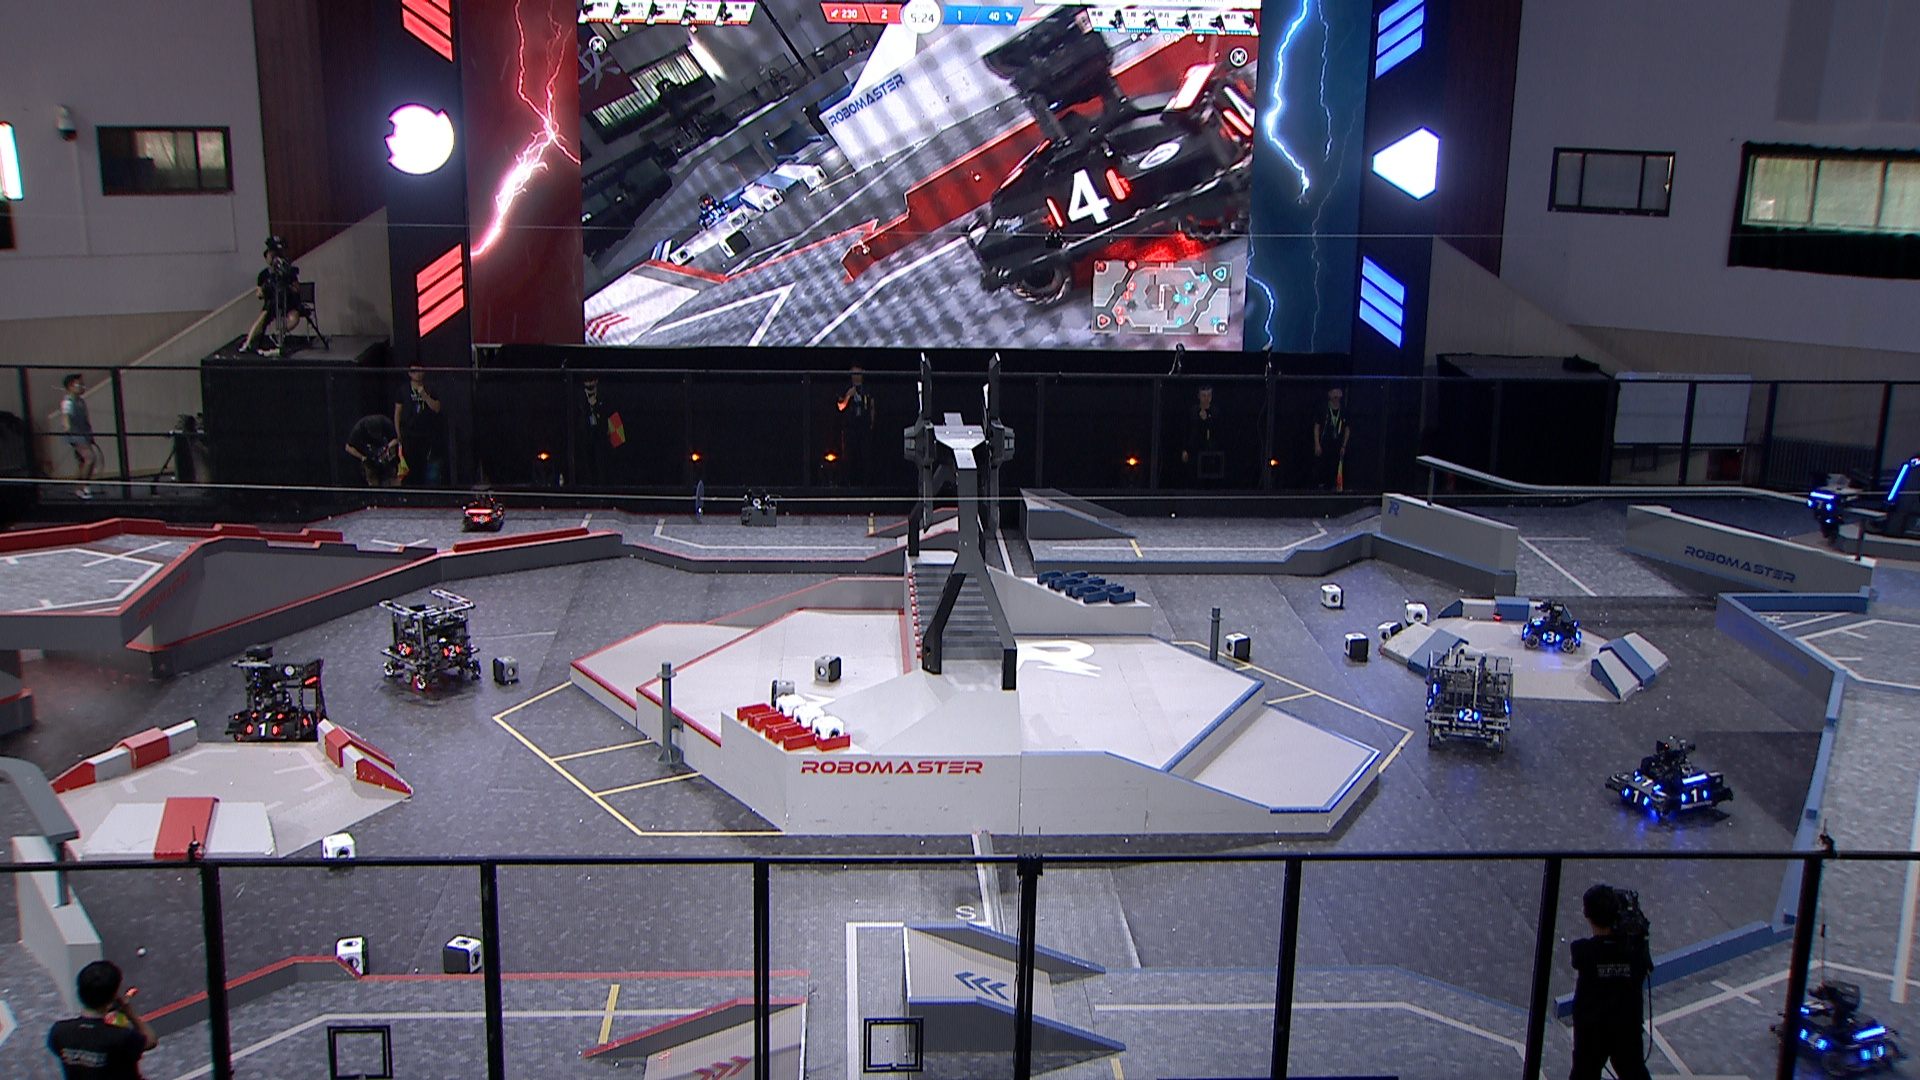armor: (1888, 462, 1911, 501), (1799, 1027, 1828, 1054), (1859, 1040, 1887, 1064), (1634, 773, 1662, 794), (244, 723, 280, 738), (1625, 789, 1652, 808), (1797, 1001, 1826, 1019), (1680, 789, 1713, 804), (249, 711, 286, 723), (1807, 498, 1836, 513), (1457, 707, 1481, 723), (1539, 632, 1564, 646), (442, 642, 463, 659), (396, 644, 414, 659), (301, 712, 318, 727), (472, 514, 491, 526), (1528, 616, 1547, 626)
base: (1866, 458, 1920, 545)
car: (1774, 978, 1907, 1079), (1604, 737, 1737, 823), (380, 589, 485, 694), (223, 645, 328, 741), (1425, 646, 1515, 754), (1522, 600, 1584, 655), (462, 485, 508, 534)
ignore: (961, 0, 1251, 306), (699, 193, 732, 228)
watcher: (1807, 484, 1859, 542)
